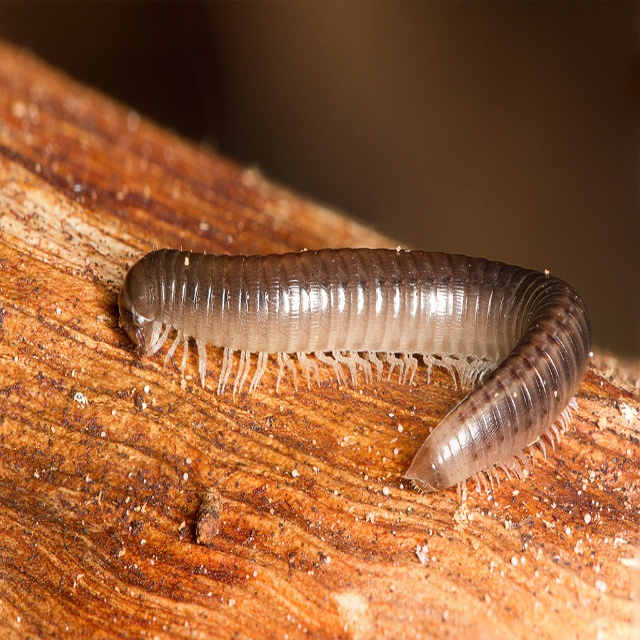Centipede: (118, 246, 591, 504)
